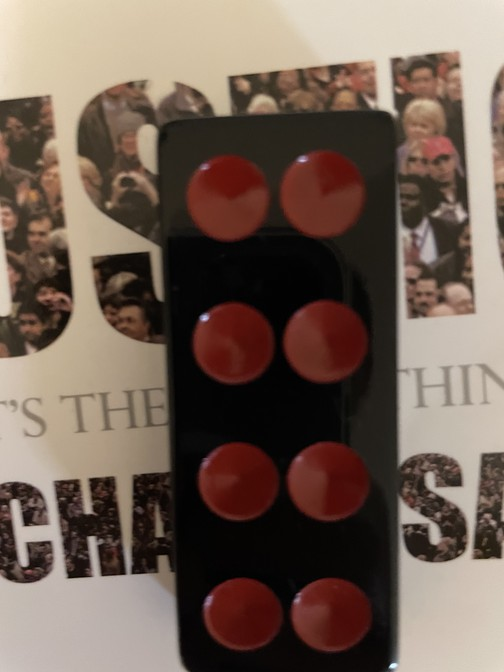man: (156, 112, 398, 672)
